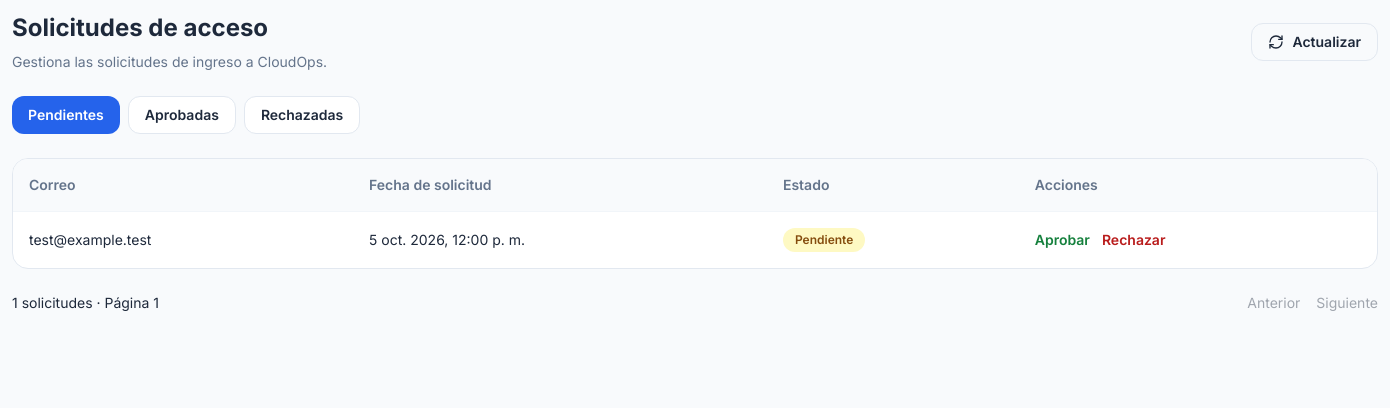
Test: Admin request actions › performs Aprobar using the requested contract
This screenshot has width=1390, height=408.
Click the button "Aprobar" at (1062, 240), box [1035, 230, 1090, 250]
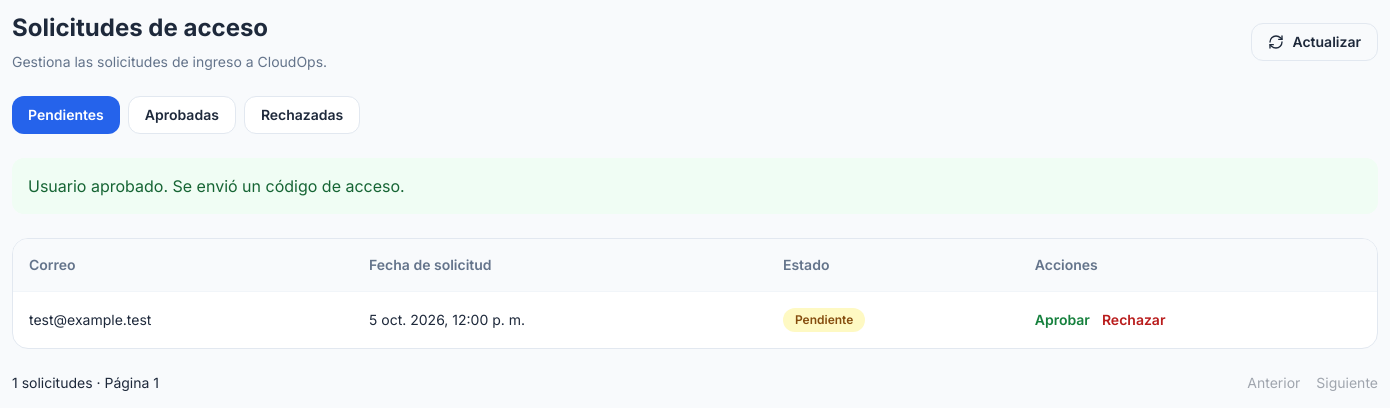
Expected: the message reads "Usuario aprobado. Se envió un código de acceso.", [28, 176, 405, 196]
